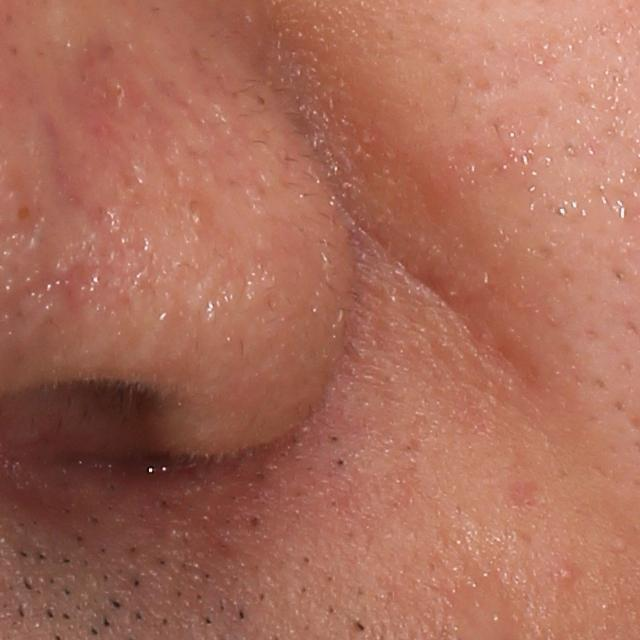comedo: (246, 511, 268, 531)
papule: (556, 563, 580, 587)
